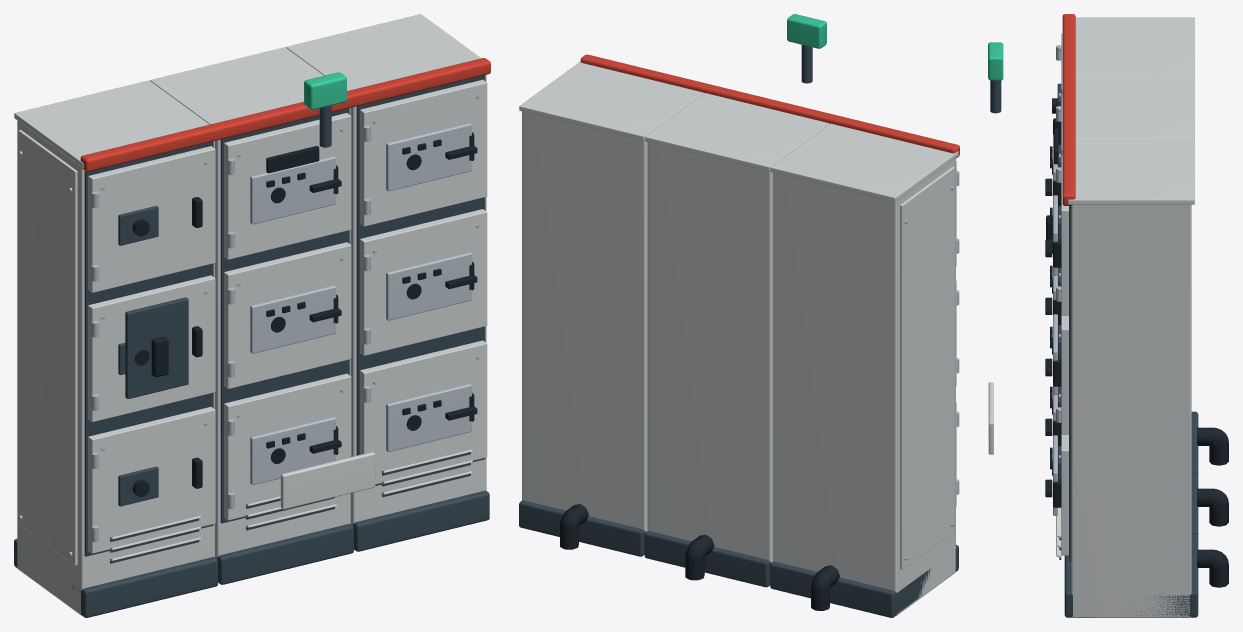
Rendered from Equipment_PDP.fbx.
3 renders of one model, left to right at view 1: azimuth 30°, elevation 25°; view 2: azimuth 150°, elevation 25°; view 3: azimuth 270°, elevation 25°, orthographic. The views are drawn at different scales.
Parts seen in each view (by area): view 1: CabinetSidePanel, Door.002, Door, CabinetFrame, Door.007, Door.008, Door.004, Door.006, Door.005, Door.001, CabinetRoofLip, Door.003 (+24 smaller); view 2: CabinetFrame, CabinetFrame.001, CabinetFrame.002, CabinetSidePanel, CabinetRoofLip, CabinetRoofLip.002, CabinetRoofLip.001, BusbarHeader, Plinth, Plinth.001, Plinth.002, StatusLens_PDP (+3 smaller); view 3: CabinetFrame.002, CabinetRoofLip.002, CabinetRoofLip, CabinetRoofLip.001, BusbarHeader, Plinth.002, DoorRecess.002, Door.008, Door.006, Door.007, CableOutlet.002, CableOutlet.001 (+6 smaller).
Part boxes in pixels (x1,y1,x2,y2): CabinetSidePanel: (18,129,77,565); Door.002: (88,146,215,292); Door: (88,407,215,553); CabinetFrame: (17,120,214,615); Door.007: (360,209,487,355); Door.008: (360,79,487,226); Door.004: (224,242,351,388); Door.006: (360,340,487,484); Door.005: (224,113,351,259); Door.001: (88,275,215,421); CabinetRoofLip: (14,80,209,168); Door.003: (224,373,351,520); CabinetFrame: (773,158,955,615); CabinetFrame.001: (647,142,773,562); CabinetFrame.002: (522,111,647,531); CabinetSidePanel: (900,166,954,569); CabinetRoofLip: (770,123,958,202); CabinetRoofLip.002: (519,61,703,140); CabinetRoofLip.001: (645,93,829,171); BusbarHeader: (580,54,959,158); Plinth: (770,544,958,617); Plinth.001: (644,531,771,587); Plinth.002: (519,500,645,556); StatusLens_PDP: (787,14,826,48); CabinetFrame.002: (1071,204,1191,617); CabinetRoofLip.002: (1068,139,1194,204); CabinetRoofLip: (1075,17,1194,78); CabinetRoofLip.001: (1075,78,1194,139); BusbarHeader: (1062,14,1075,205); Plinth.002: (1064,533,1198,617); DoorRecess.002: (1069,206,1071,561); Door.008: (1061,155,1068,315); Door.006: (1061,434,1068,555); Door.007: (1061,315,1068,434); CableOutlet.002: (1197,549,1228,587); CableOutlet.001: (1197,488,1228,526).
Bounding box in the file's own units: 2 × 2.41 × 1.1.
